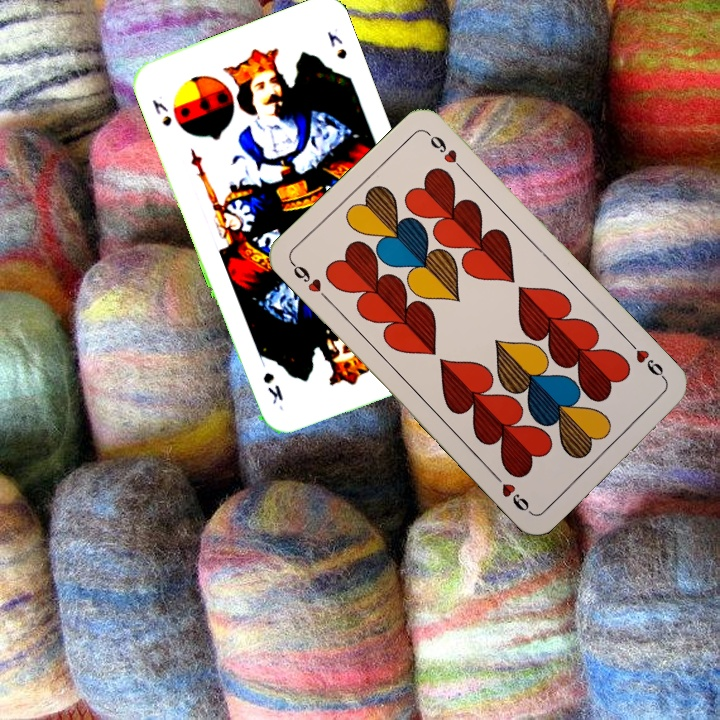H9: (287, 258, 333, 305), (625, 337, 670, 385)
SK: (148, 95, 175, 129)
